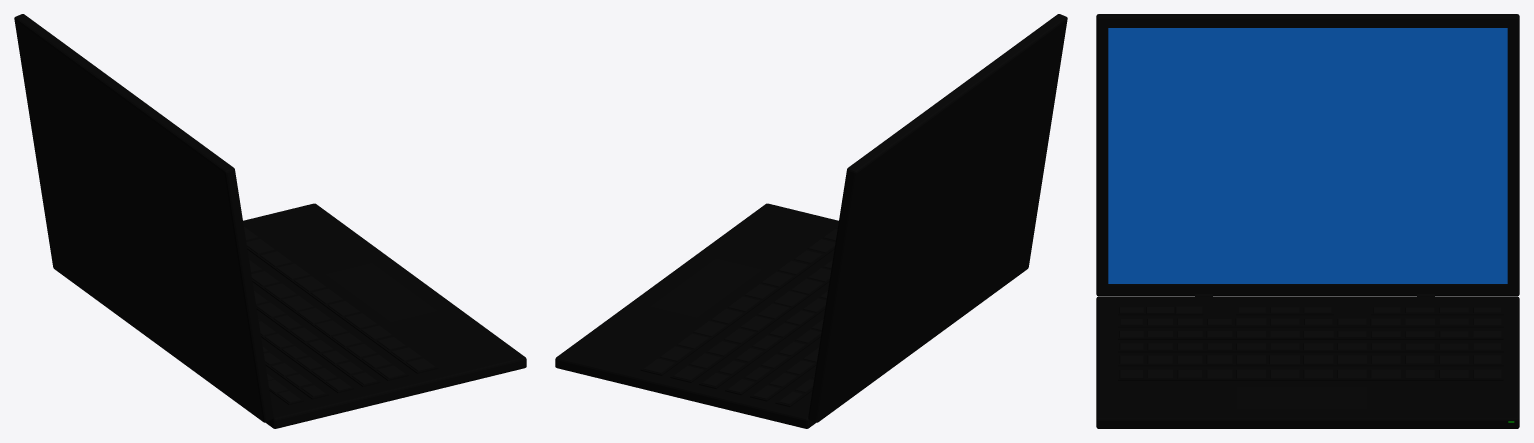
File: LowPolyLaptop_clean.obj
The picture shows the model from 3 angles, left to right: view 1: azimuth 30°, elevation 25°; view 2: azimuth 150°, elevation 25°; view 3: azimuth 270°, elevation 25°; orthographic projection.
Visible parts, largest first — view 1: LaptopMontor_LaptopBody, LaptopBase_LaptopBody, LaptopBase_LaptopButtons, LaptopBase_Laptop_TouchPad; view 2: LaptopMontor_LaptopBody, LaptopBase_LaptopBody, LaptopBase_LaptopButtons, LaptopBase_Laptop_TouchPad; view 3: LaptopMontor_LaptopScreen, LaptopBase_LaptopBody, LaptopMontor_LaptopBody, LaptopBase_LaptopButtons, LaptopBase_Laptop_TouchPad.
Part boxes in pixels (x1=…): LaptopMontor_LaptopBody: x1=14, y1=14, x2=273, y2=422; LaptopBase_LaptopBody: x1=243, y1=203, x2=526, y2=428; LaptopBase_LaptopButtons: x1=244, y1=227, x2=434, y2=401; LaptopBase_Laptop_TouchPad: x1=326, y1=263, x2=436, y2=322; LaptopMontor_LaptopBody: x1=808, y1=14, x2=1067, y2=422; LaptopBase_LaptopBody: x1=555, y1=203, x2=838, y2=428; LaptopBase_LaptopButtons: x1=644, y1=229, x2=837, y2=403; LaptopBase_Laptop_TouchPad: x1=651, y1=258, x2=761, y2=317; LaptopMontor_LaptopScreen: x1=1108, y1=28, x2=1507, y2=283; LaptopBase_LaptopBody: x1=1096, y1=296, x2=1519, y2=428; LaptopMontor_LaptopBody: x1=1096, y1=14, x2=1519, y2=296; LaptopBase_LaptopButtons: x1=1120, y1=306, x2=1501, y2=378; LaptopBase_Laptop_TouchPad: x1=1236, y1=387, x2=1366, y2=409.
Size of the model in its own units: 0.4975 by 0.4275 by 0.6056.
